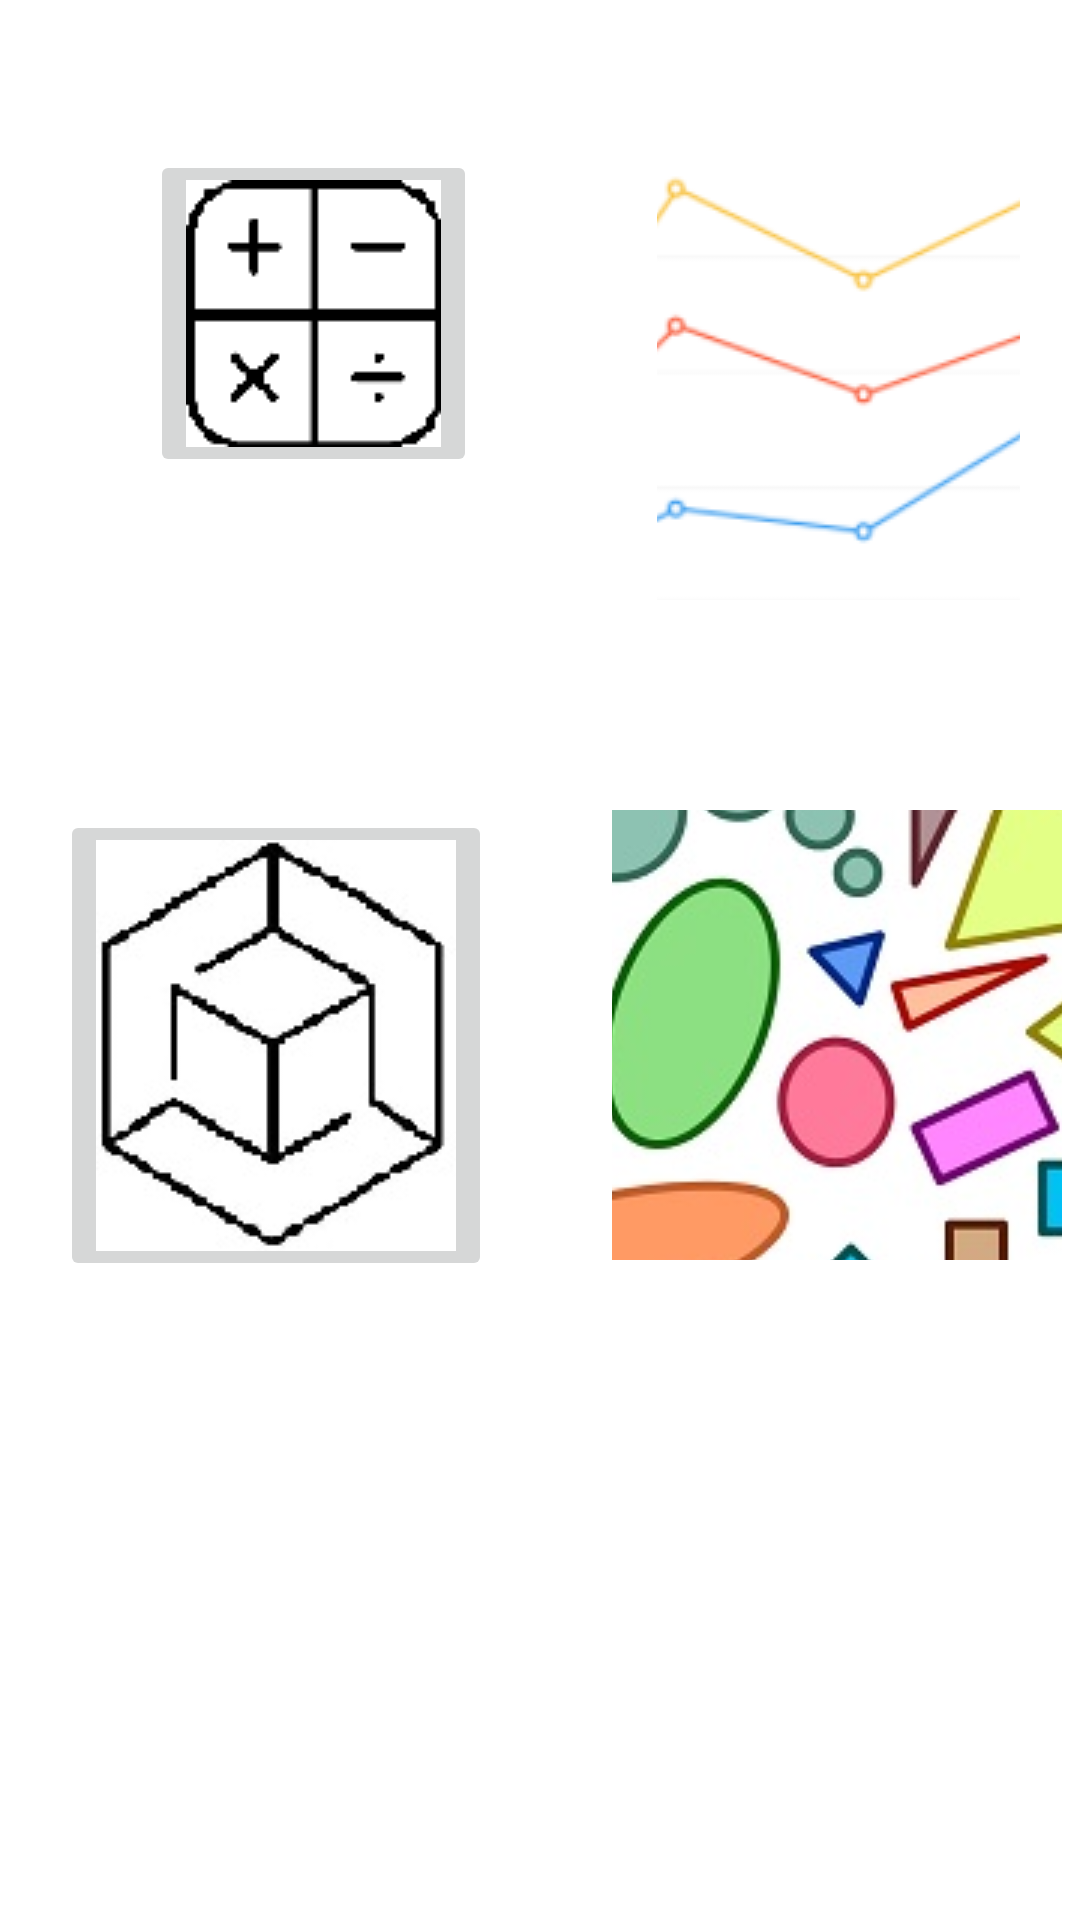

Screen size 1080x1920. Icon name, then its center in pixels as [x,y]:
calc: [313,313]
